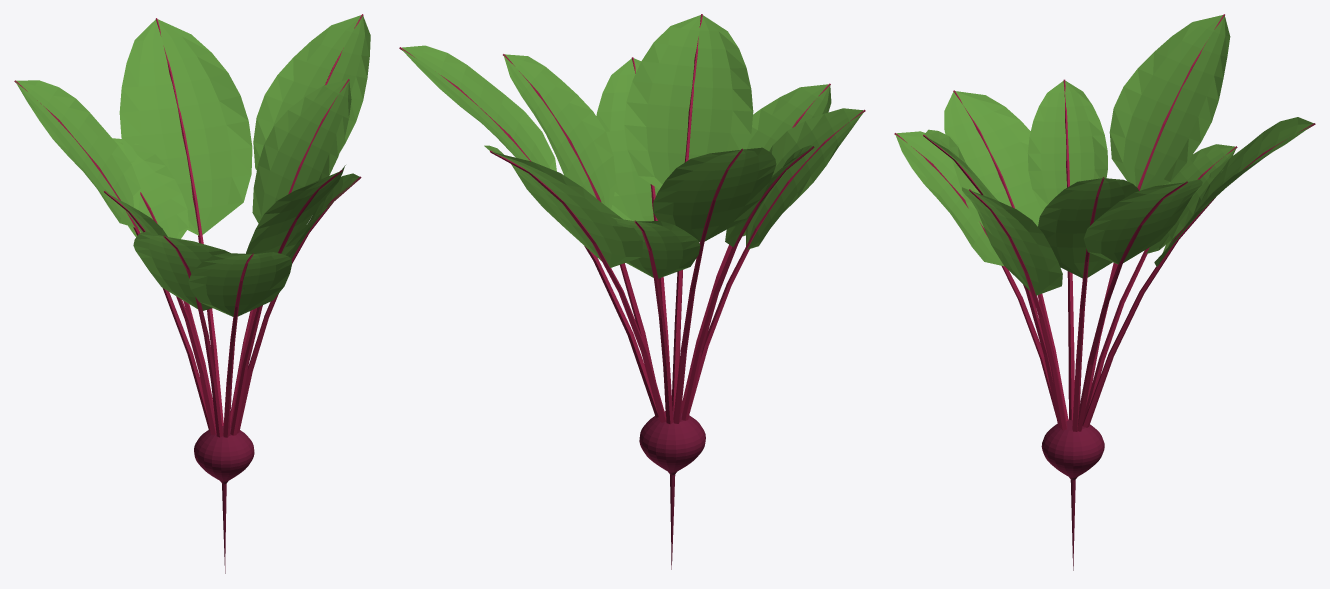
The model's file is beetroot_harvest_v04.glb.
3 views of the same model, side by side, from view 1: azimuth 30°, elevation 25°; view 2: azimuth 150°, elevation 25°; view 3: azimuth 270°, elevation 25° (orthographic). The views are drawn at different scales.
Visible parts, largest first — view 1: plant; view 2: plant; view 3: plant.
Boxes of the visible parts, left/top/right/bottom form: plant: left=14, top=14, right=370, bottom=573; plant: left=399, top=14, right=865, bottom=569; plant: left=894, top=14, right=1315, bottom=570.
Bounding box in the file's own units: 0.3355 × 0.4564 × 0.3545.
Materials: 1 (1 with a texture image).
